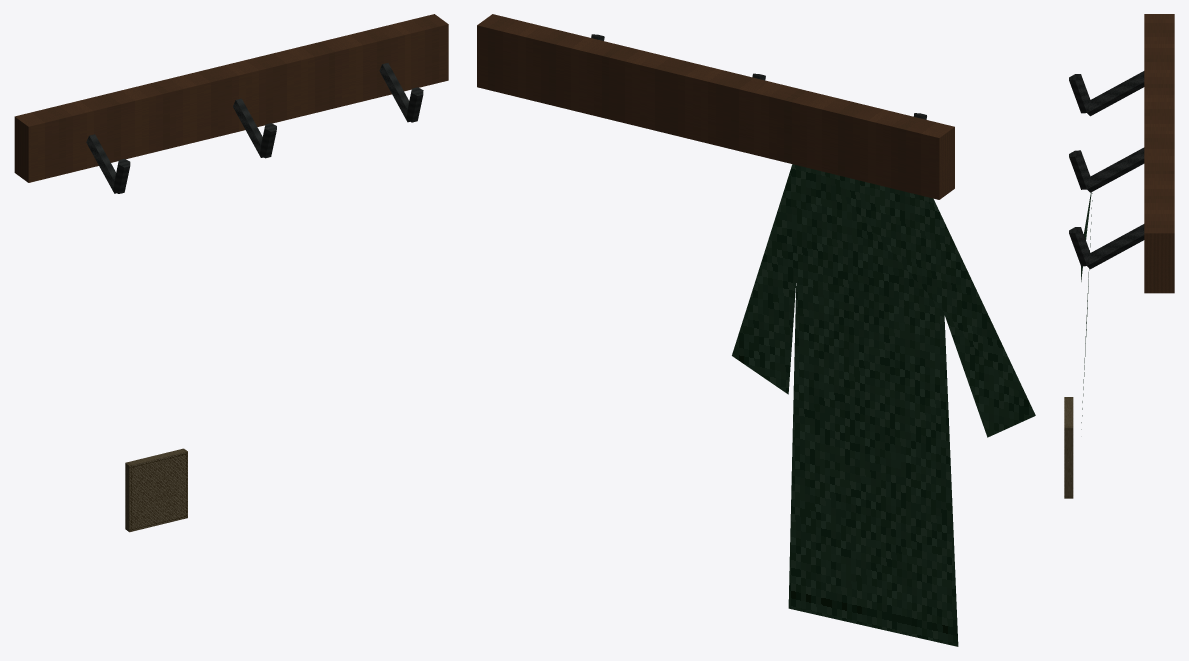
File: level_trace_coat.glb
3 views of the same model, side by side, from view 1: azimuth 30°, elevation 25°; view 2: azimuth 150°, elevation 25°; view 3: azimuth 270°, elevation 25° (orthographic). The views are drawn at different scales.
Visible parts, largest first — view 1: level_trace_coat; view 2: level_trace_coat; view 3: level_trace_coat.
Boxes of the visible parts, x1,y1,x2,y2 form: level_trace_coat: [14, 14, 448, 532]; level_trace_coat: [477, 14, 1035, 646]; level_trace_coat: [1064, 14, 1174, 498].
Bounding box in the file's own units: 0.95 × 0.985 × 0.1825.
4 materials, 4 textured.
